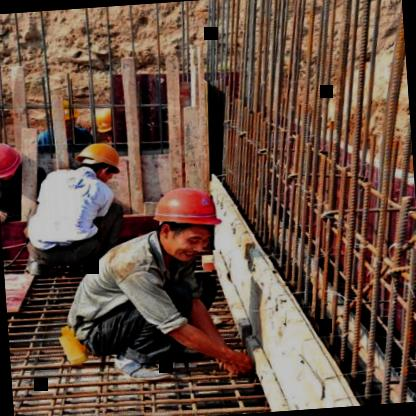helmet: (141, 181, 221, 262), (75, 140, 126, 190), (86, 105, 124, 143), (0, 139, 25, 184), (51, 95, 80, 133)
